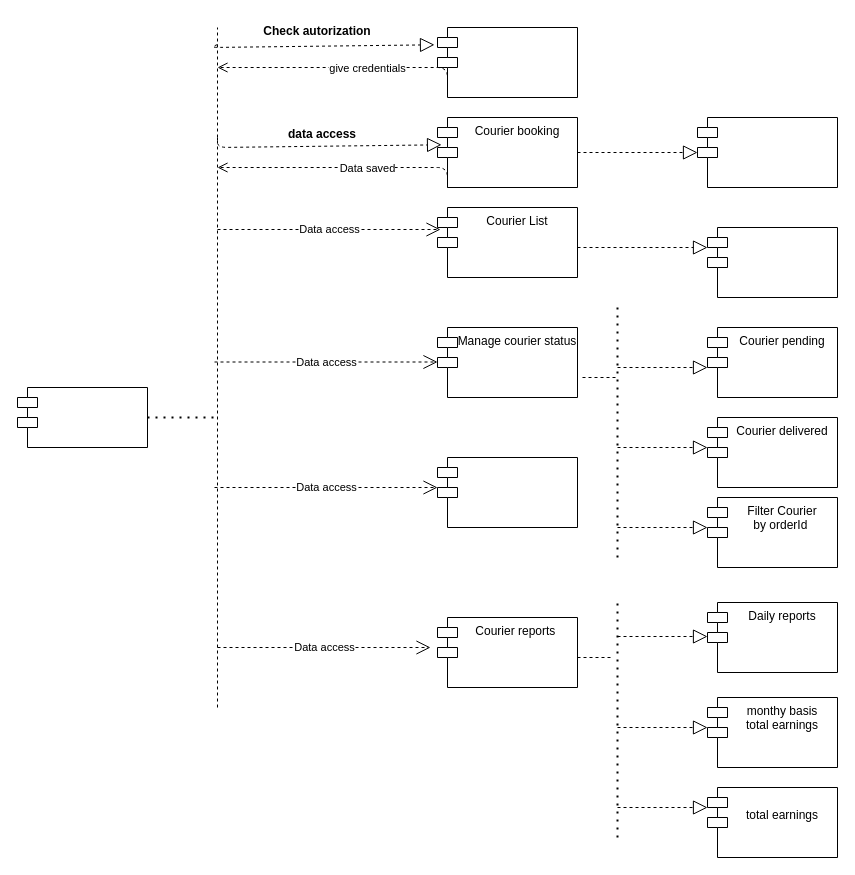
This 855x875 diagram has some shape labels left out. The shapes that lost their labels are listed below. From the top down, each one's box as (x1, y1, x2, y2) in pixels, then its label:
(436, 26, 578, 98): Authentication
(696, 116, 838, 188): Payment generate
(706, 226, 838, 298): Courier Edit/delete
(16, 386, 148, 448): CMS Database
(436, 456, 578, 528): Tracking courier
